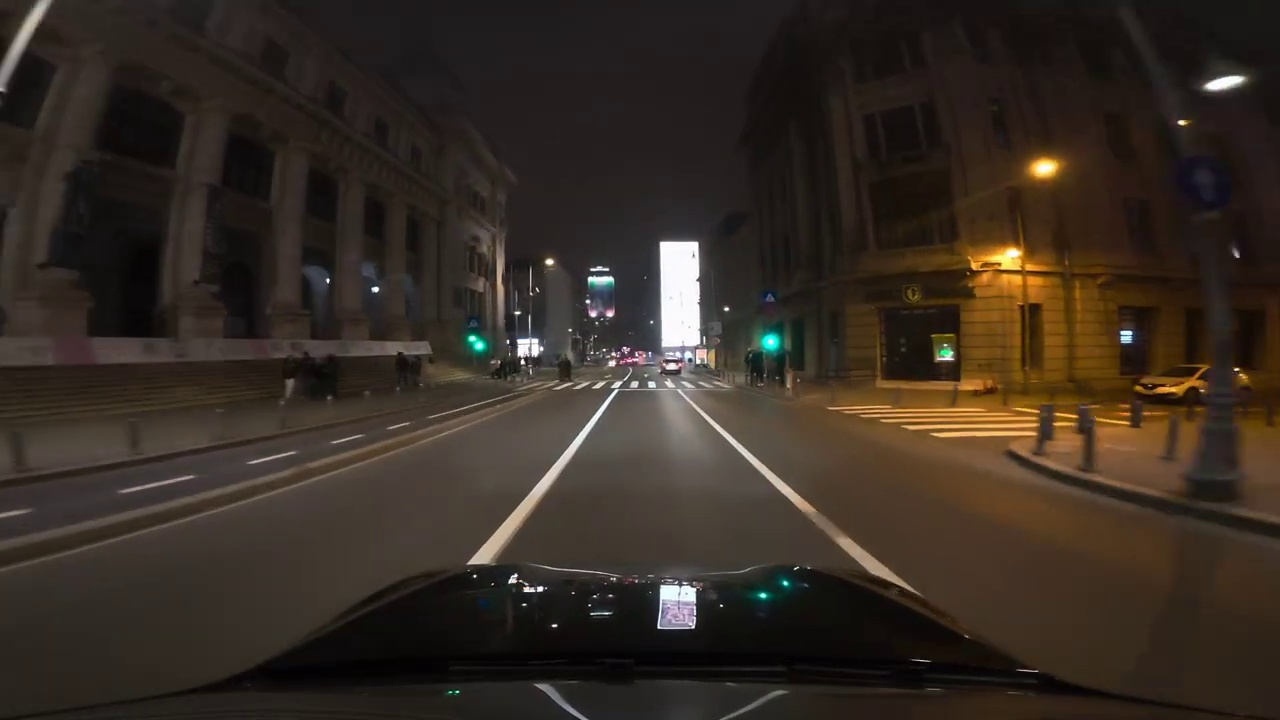acesa: (1026, 154, 1060, 184), (543, 253, 561, 275)
